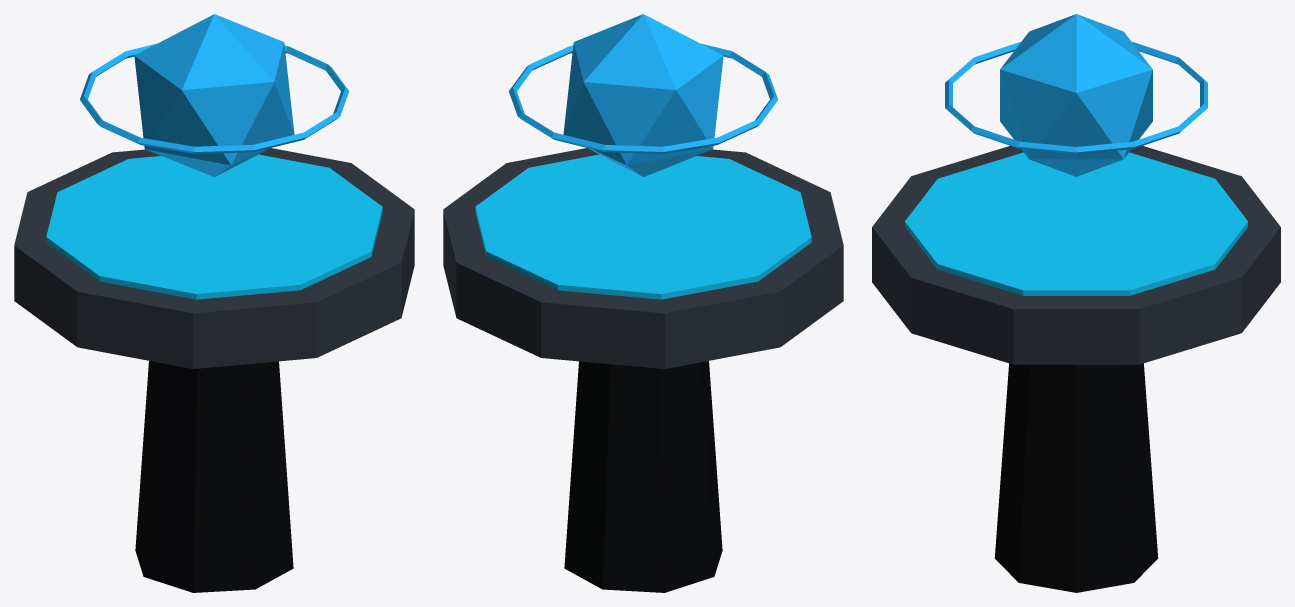
The model's file is hologram_table.obj.
3 views of the same model, side by side, from view 1: azimuth 30°, elevation 25°; view 2: azimuth 150°, elevation 25°; view 3: azimuth 270°, elevation 25° (orthographic).
Visible parts, largest first — view 1: hologram_table; view 2: hologram_table; view 3: hologram_table.
Boxes of the visible parts, box(x1,y1,x2,y2) form: hologram_table: box(14, 14, 414, 592); hologram_table: box(443, 14, 843, 592); hologram_table: box(872, 14, 1280, 592).
Bounding box in the file's own units: 0.9511 × 1.47 × 1.
